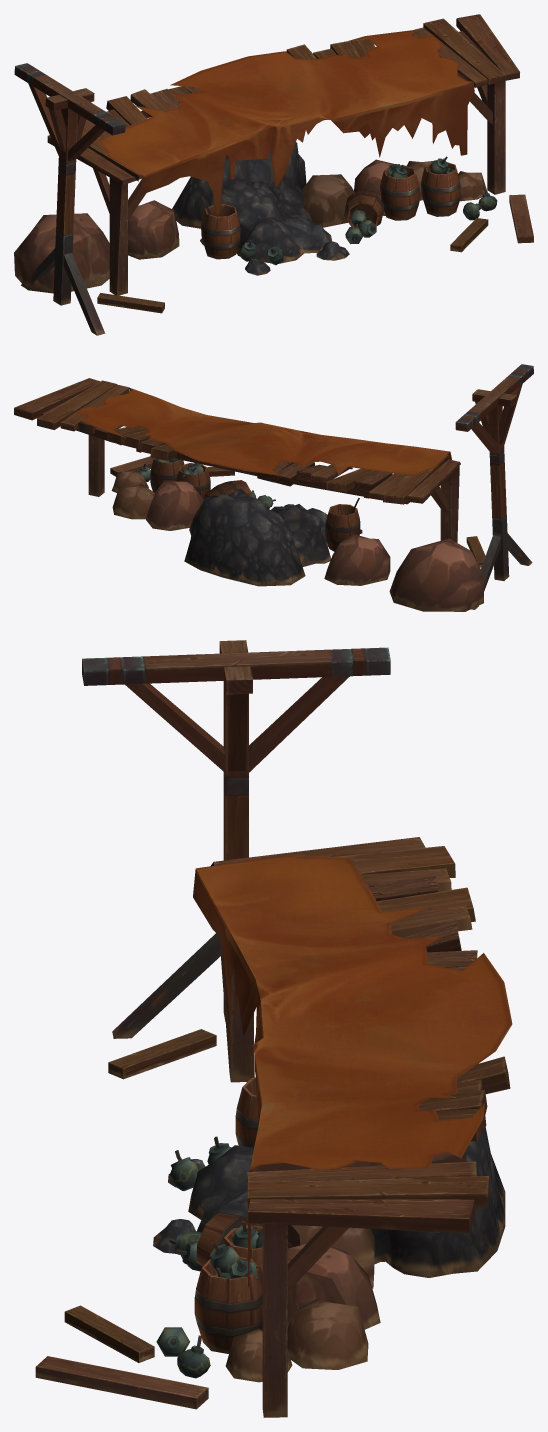
The model's file is jjkd_hzayaodui.fbx.
3 views of the same model, one above another, from view 1: azimuth 30°, elevation 25°; view 2: azimuth 150°, elevation 25°; view 3: azimuth 270°, elevation 25° (orthographic). The views are drawn at different scales.
Parts seen in each view (by area): view 1: jjkd_hzayaodui; view 2: jjkd_hzayaodui; view 3: jjkd_hzayaodui.
Part boxes in pixels (bbox=[...]): jjkd_hzayaodui: bbox=[14, 14, 533, 335]; jjkd_hzayaodui: bbox=[14, 364, 533, 611]; jjkd_hzayaodui: bbox=[35, 640, 512, 1417].
Bounding box in the file's own units: 949 × 390 × 444.
